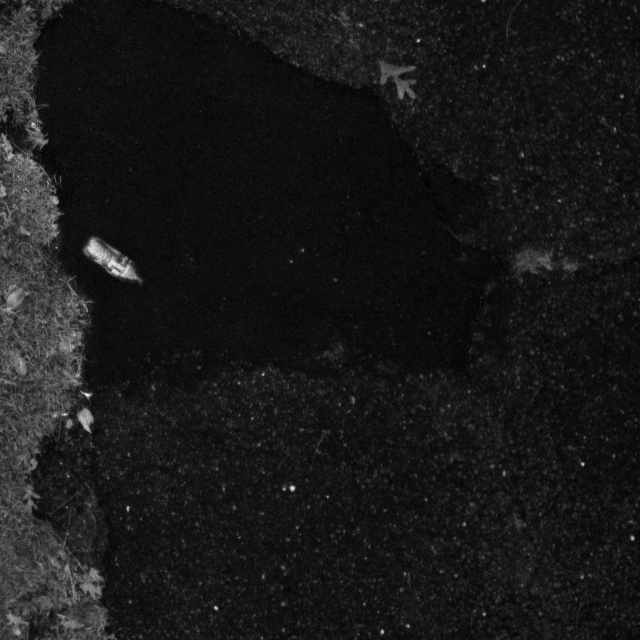bottle: (81, 228, 145, 292)
